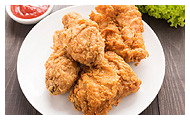curry: (135, 5, 185, 29)
sushi: (5, 5, 55, 25)
